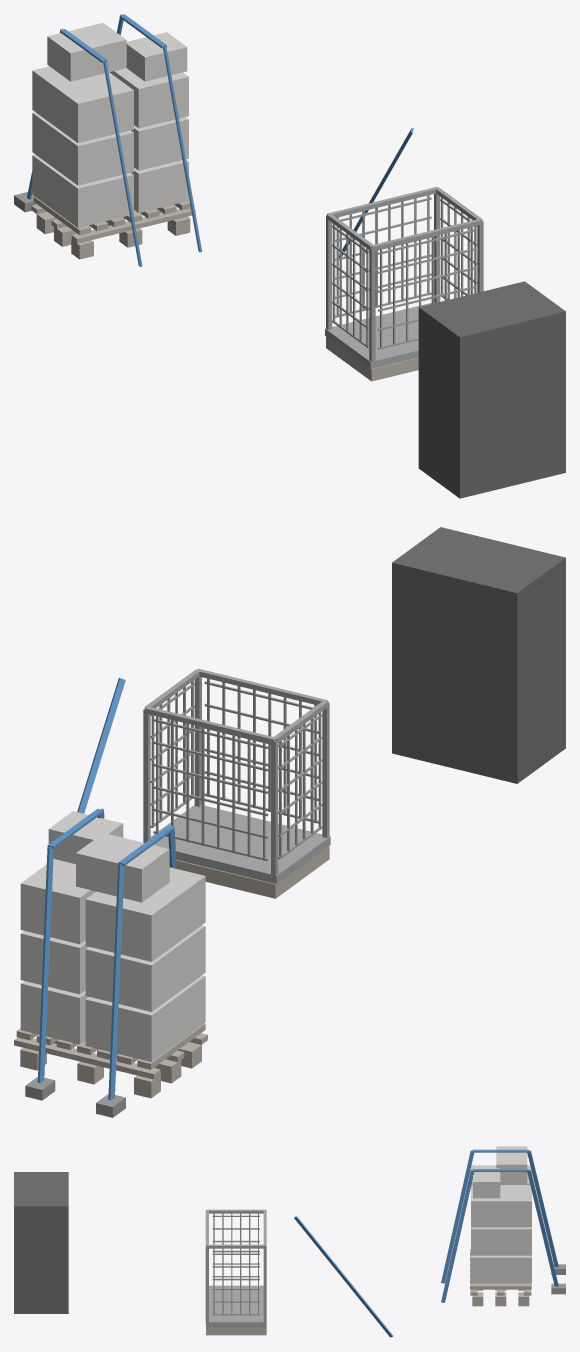
The model's file is common_cargo_v10.glb.
3 views of the same model, one above another, from view 1: azimuth 30°, elevation 25°; view 2: azimuth 150°, elevation 25°; view 3: azimuth 270°, elevation 25° (orthographic). The views are drawn at different scales.
Parts seen in each view (by area): view 1: BACK_LOAD, LOAD_2_2, LOAD_TOP_A, LOAD_0_2, LOAD_1_2, GITTER_BOTTOM, LOAD_2_3, LOAD_0_3, LOAD_1_3, LOAD_TOP_B, LOAD_2_0, GITTER_PALLET (+10 smaller); view 2: BACK_LOAD, GITTER_BOTTOM, LOAD_2_0, LOAD_TOP_A, LOAD_0_0, LOAD_1_0, LOAD_2_1, LOAD_0_1, LOAD_1_1, GITTER_PALLET, LOAD_2_2, LOAD_TOP_B (+12 smaller); view 3: BACK_LOAD, GITTER_BOTTOM, LOAD_2_1, LOAD_TOP_A, LOAD_2_3, LOAD_1_1, LOAD_0_1, LOAD_0_3, LOAD_1_3, LOAD_TOP_B, STRAP_FRONT_0, RIGHT_WALL_LOOSE_STRAP (+9 smaller).
Boxes of the visible parts, x1=… form: BACK_LOAD: x1=418, y1=281, x2=565, y2=498; LOAD_2_2: x1=55, y1=74, x2=133, y2=142; LOAD_TOP_A: x1=47, y1=23, x2=126, y2=81; LOAD_0_2: x1=55, y1=171, x2=133, y2=227; LOAD_1_2: x1=55, y1=129, x2=133, y2=185; GITTER_BOTTOM: x1=325, y1=302, x2=434, y2=368; LOAD_2_3: x1=116, y1=70, x2=188, y2=128; LOAD_0_3: x1=131, y1=160, x2=188, y2=212; LOAD_1_3: x1=131, y1=117, x2=188, y2=170; LOAD_TOP_B: x1=126, y1=32, x2=187, y2=81; LOAD_2_0: x1=32, y1=66, x2=110, y2=126; GITTER_PALLET: x1=326, y1=336, x2=418, y2=381; BACK_LOAD: x1=392, y1=527, x2=565, y2=783; GITTER_BOTTOM: x1=150, y1=805, x2=330, y2=884; LOAD_2_0: x1=85, y1=890, x2=179, y2=961; LOAD_TOP_A: x1=76, y1=833, x2=169, y2=902; LOAD_0_0: x1=85, y1=994, x2=179, y2=1061; LOAD_1_0: x1=85, y1=944, x2=179, y2=1011; LOAD_2_1: x1=20, y1=864, x2=95, y2=944; LOAD_0_1: x1=20, y1=981, x2=88, y2=1044; LOAD_1_1: x1=20, y1=931, x2=88, y2=994; GITTER_PALLET: x1=169, y1=846, x2=329, y2=898; LOAD_2_2: x1=159, y1=867, x2=205, y2=941; LOAD_TOP_B: x1=48, y1=811, x2=123, y2=864; BACK_LOAD: x1=14, y1=1172, x2=68, y2=1313; GITTER_BOTTOM: x1=206, y1=1285, x2=266, y2=1327; LOAD_2_1: x1=500, y1=1185, x2=531, y2=1227; LOAD_TOP_A: x1=496, y1=1146, x2=527, y2=1183; LOAD_2_3: x1=471, y1=1185, x2=500, y2=1227; LOAD_1_1: x1=500, y1=1227, x2=531, y2=1255; LOAD_0_1: x1=500, y1=1255, x2=531, y2=1283; LOAD_0_3: x1=471, y1=1255, x2=500, y2=1283; LOAD_1_3: x1=471, y1=1227, x2=500, y2=1255; LOAD_TOP_B: x1=473, y1=1168, x2=500, y2=1198; STRAP_FRONT_0: x1=441, y1=1150, x2=473, y2=1283; RIGHT_WALL_LOOSE_STRAP: x1=294, y1=1216, x2=393, y2=1337.
Bounding box in the file's own units: 2.17 × 1.95 × 7.45.
